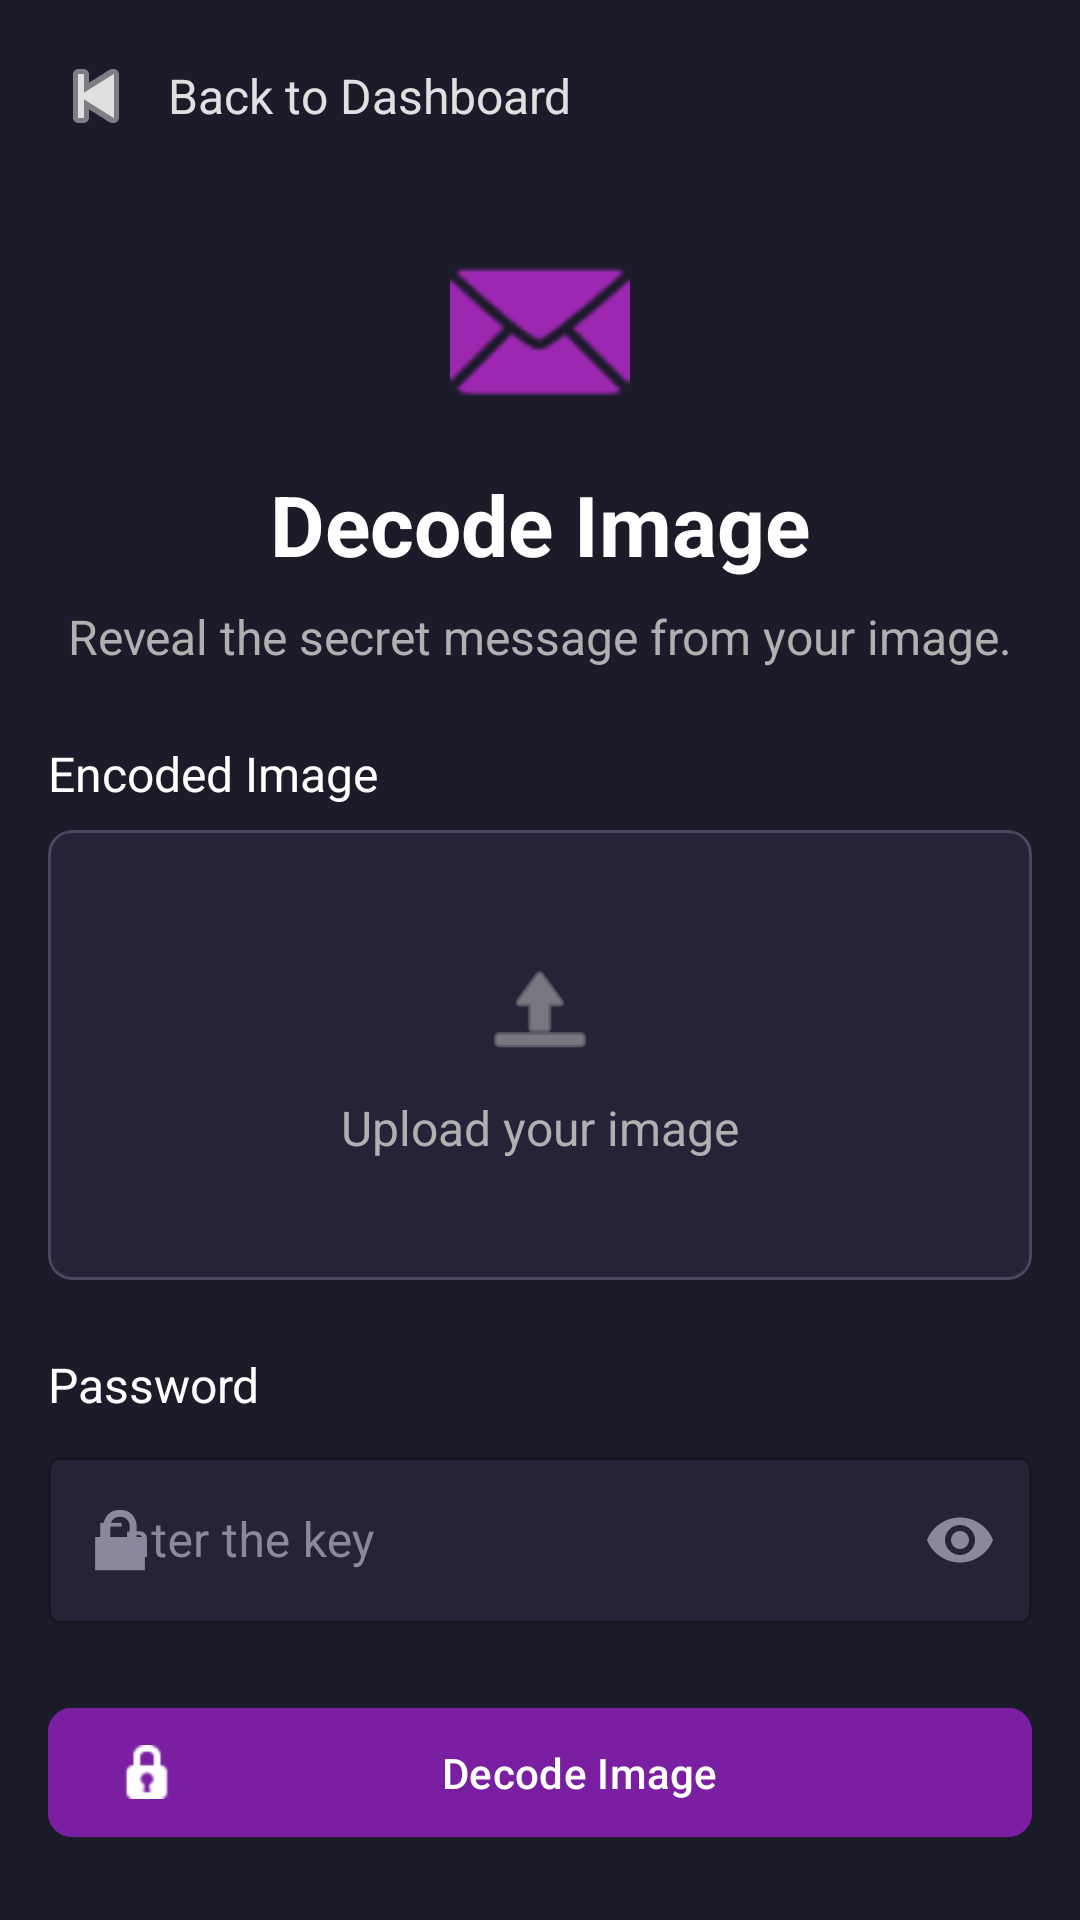

Point at icon controls on the screen. Image size 1080px x 1920px, points as (x,y).
email: (540,331)
